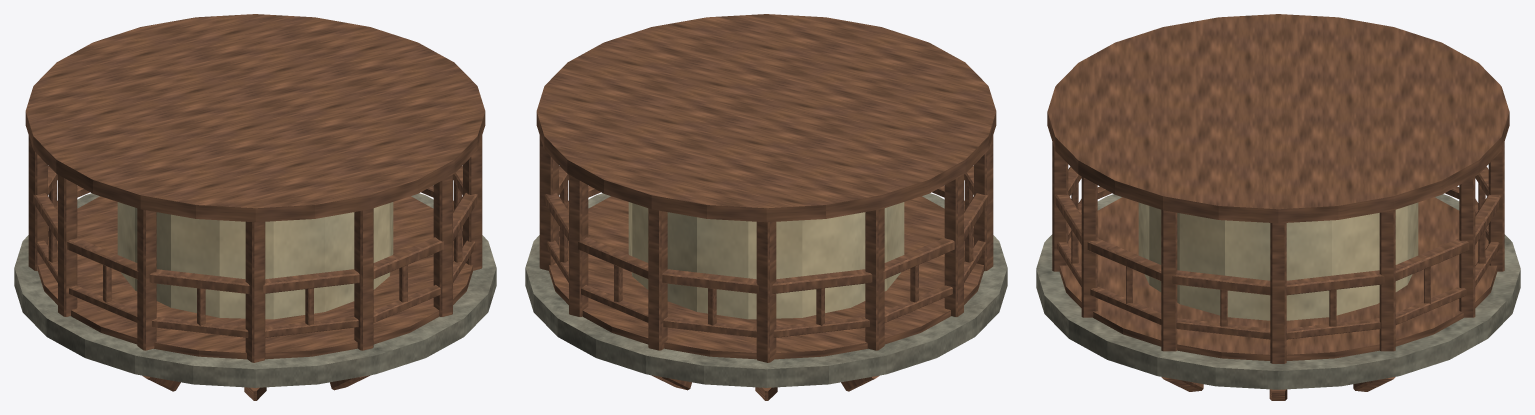
File: round_tower_gallery.glb
3 renders of one model, left to right at view 1: azimuth 30°, elevation 25°; view 2: azimuth 150°, elevation 25°; view 3: azimuth 270°, elevation 25°, orthographic.
Visible parts, largest first — view 1: Round Tower Gallery; view 2: Round Tower Gallery; view 3: Round Tower Gallery.
Boxes of the visible parts, x1,y1,x2,y2 form: Round Tower Gallery: (14, 14, 496, 400); Round Tower Gallery: (525, 14, 1007, 400); Round Tower Gallery: (1036, 14, 1520, 400).
Bounding box in the file's own units: 5.62 × 2.8 × 5.62.
3 materials, 3 textured.
